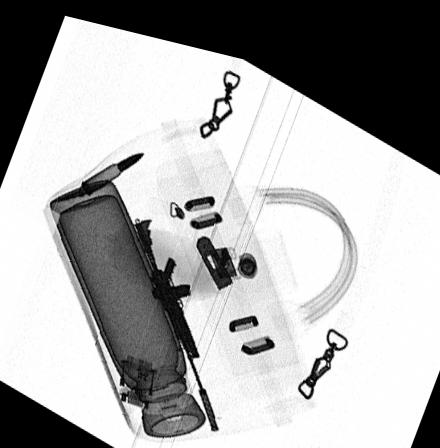Bullet: (81, 145, 145, 192)
Gun: (133, 211, 220, 420)
